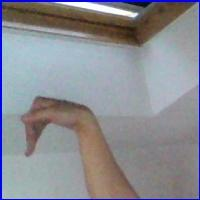del: (20, 93, 97, 165)
